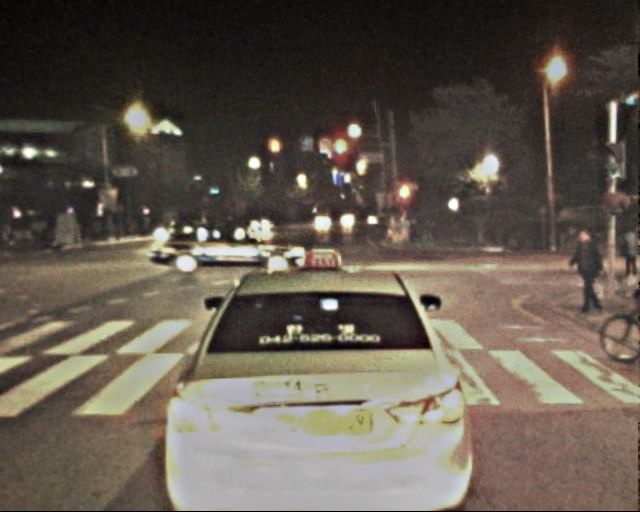person: (566, 225, 605, 320), (619, 227, 640, 282), (408, 217, 439, 245), (4, 214, 25, 245)
